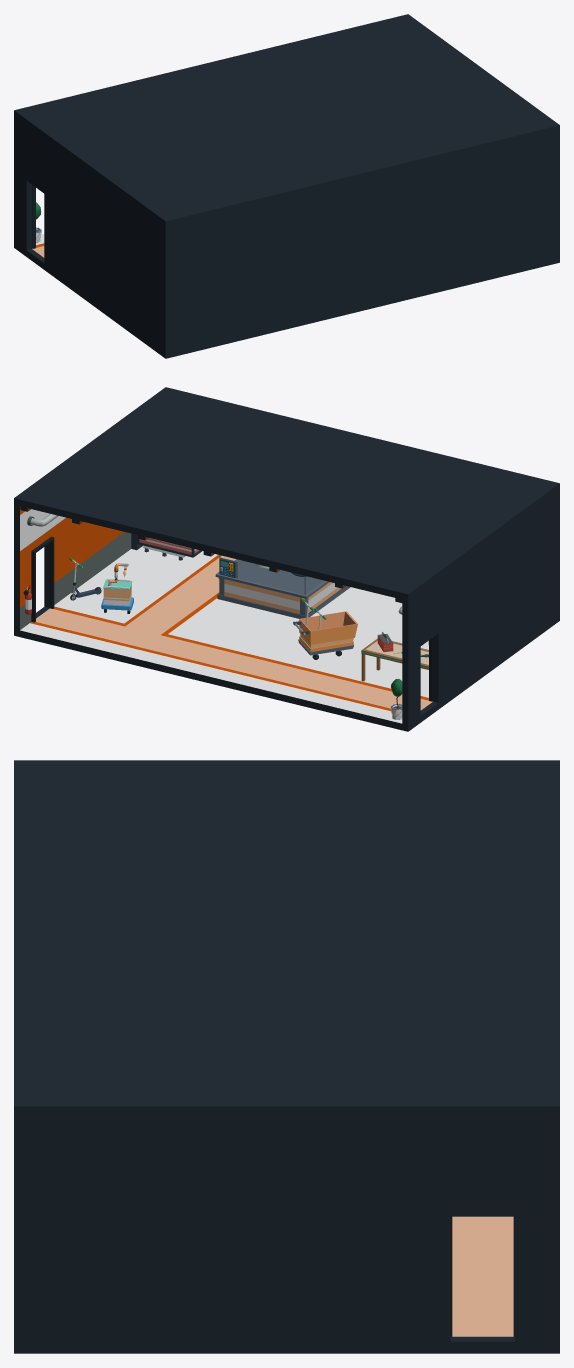
The model's file is Room_machining_003.fbx.
3 views of the same model, one above another, from view 1: azimuth 30°, elevation 25°; view 2: azimuth 150°, elevation 25°; view 3: azimuth 270°, elevation 25° (orthographic). The views are drawn at different scales.
Parts seen in each view (by area): view 1: Room_large_001.003; view 2: Room_large_001.003; view 3: Room_large_001.003.
Boxes of the visible parts, bbox=[...] form: Room_large_001.003: bbox=[14, 14, 559, 358]; Room_large_001.003: bbox=[14, 387, 559, 731]; Room_large_001.003: bbox=[14, 760, 559, 1353].
Size of the model in its own units: 1200 by 400 by 800.
